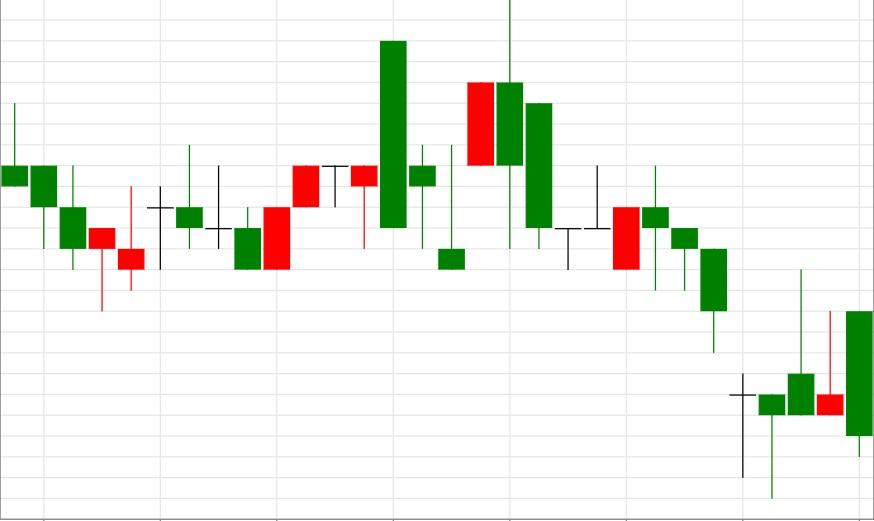bullish_engulfing_rise: (146, 145, 291, 270)
hammer_rise: (642, 165, 787, 499)
hanging_man_fall: (233, 165, 379, 269)
inverse_hammer_rise: (379, 40, 465, 270)
